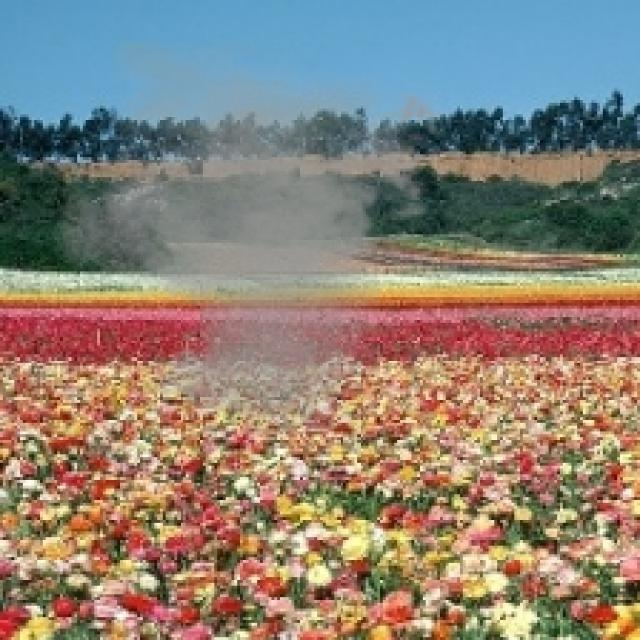smoke: (40, 40, 454, 434)
